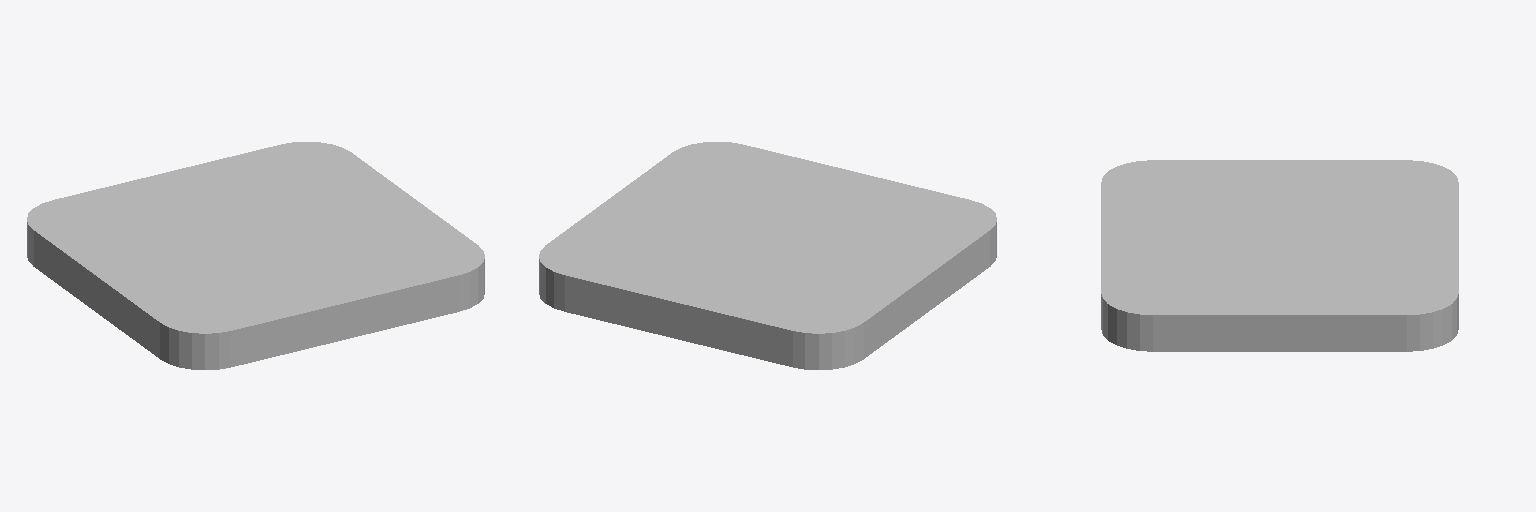
Rendered from original-37.obj.
The picture shows the model from 3 angles: view 1: azimuth 30°, elevation 25°; view 2: azimuth 150°, elevation 25°; view 3: azimuth 270°, elevation 25°; orthographic projection.
Visible parts, largest first — view 1: mesh36/mesh36-geometry#mesh36-geometry; view 2: mesh36/mesh36-geometry#mesh36-geometry; view 3: mesh36/mesh36-geometry#mesh36-geometry.
Boxes of the visible parts, box(x1,y1,x2,y2) form: mesh36/mesh36-geometry#mesh36-geometry: box(27, 142, 484, 369); mesh36/mesh36-geometry#mesh36-geometry: box(539, 142, 996, 369); mesh36/mesh36-geometry#mesh36-geometry: box(1101, 160, 1458, 351).
Size of the model in its own units: 0.0583 by 0.0064 by 0.0568.